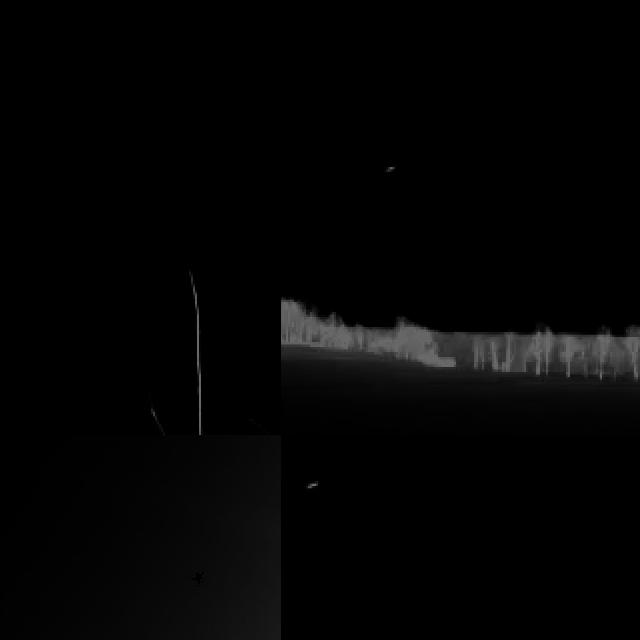1: (294, 472, 330, 508), (373, 157, 407, 187)
drone: (190, 564, 206, 592)
